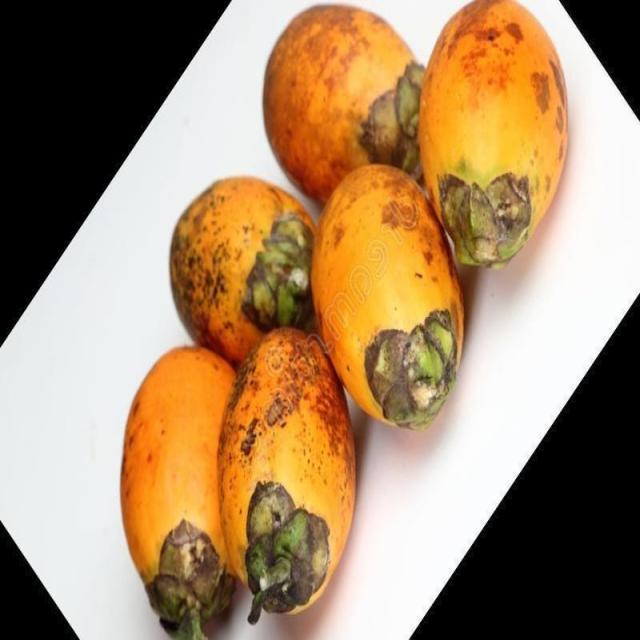good: (119, 346, 268, 624), (311, 165, 466, 431), (418, 0, 570, 270), (217, 328, 358, 616), (262, 6, 422, 205), (168, 177, 318, 367)
